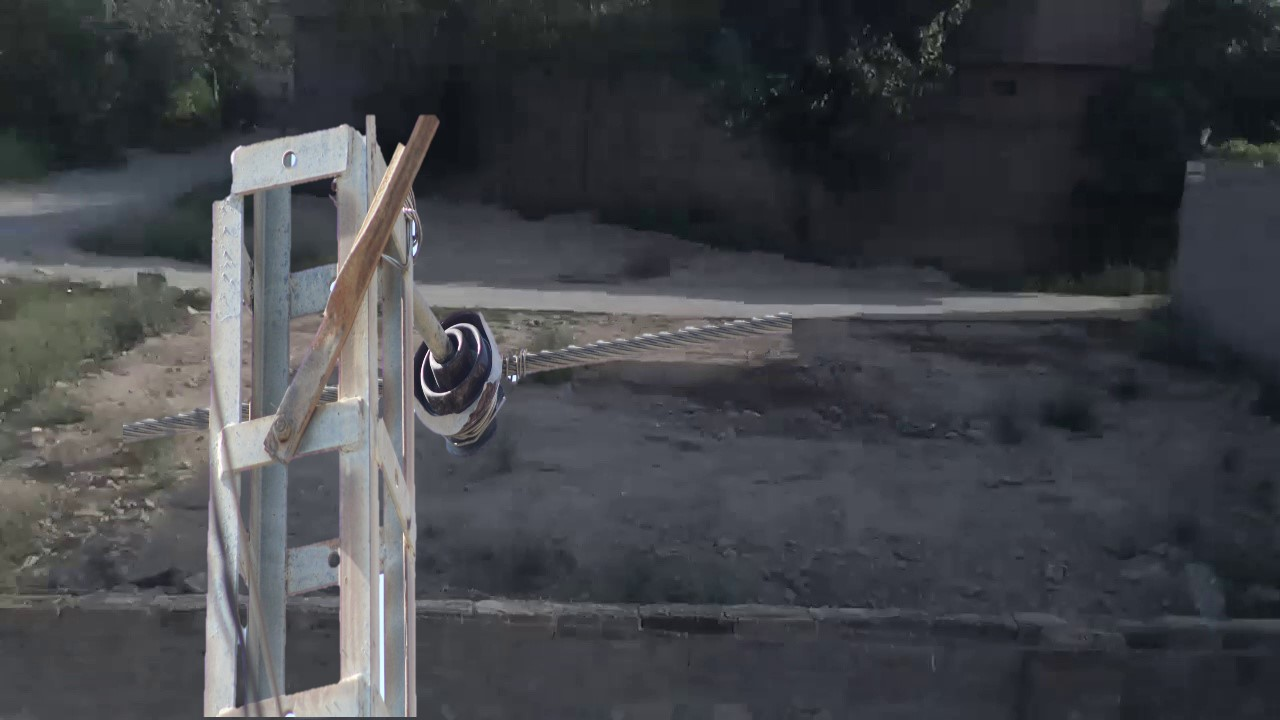defect_pin: (410, 306, 516, 468)
